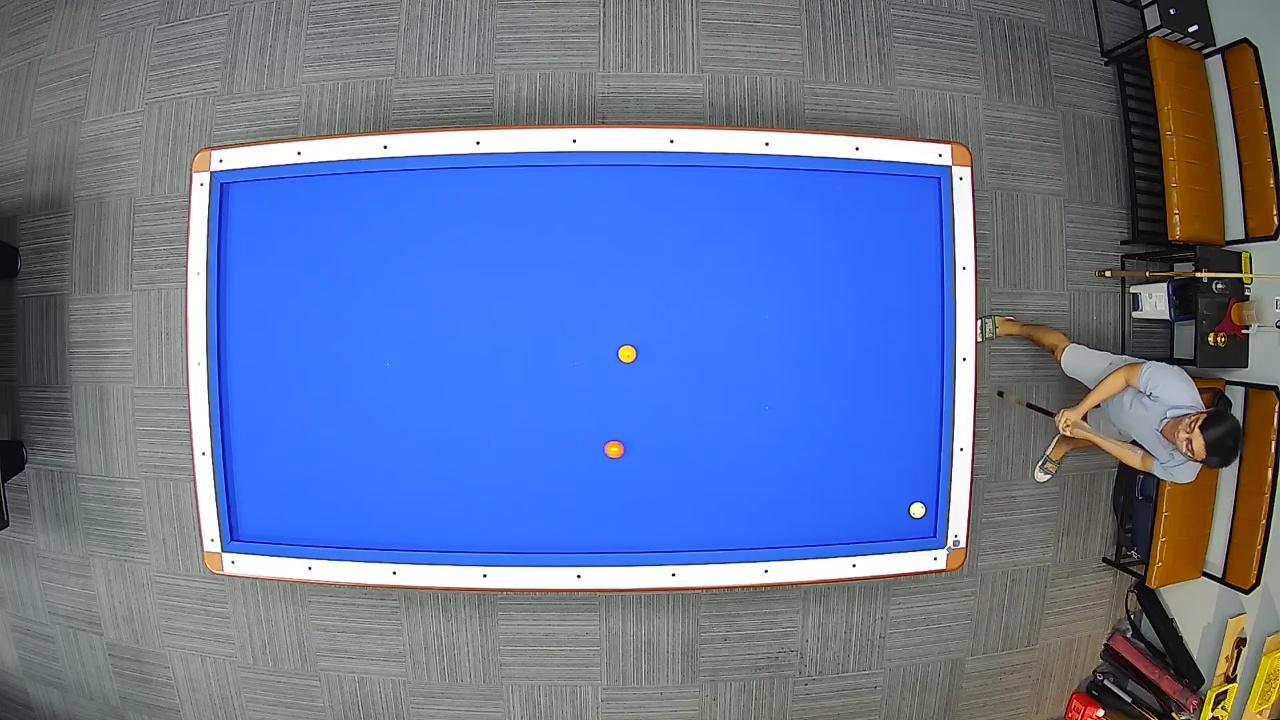Orange: (601, 439, 627, 461)
White: (907, 500, 929, 520)
Yellow: (616, 344, 638, 364)
